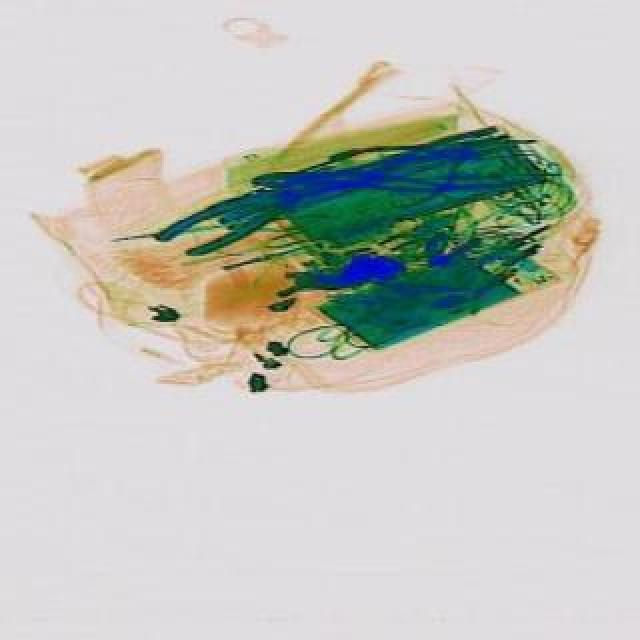wrench: (148, 166, 320, 274), (250, 148, 520, 204)
